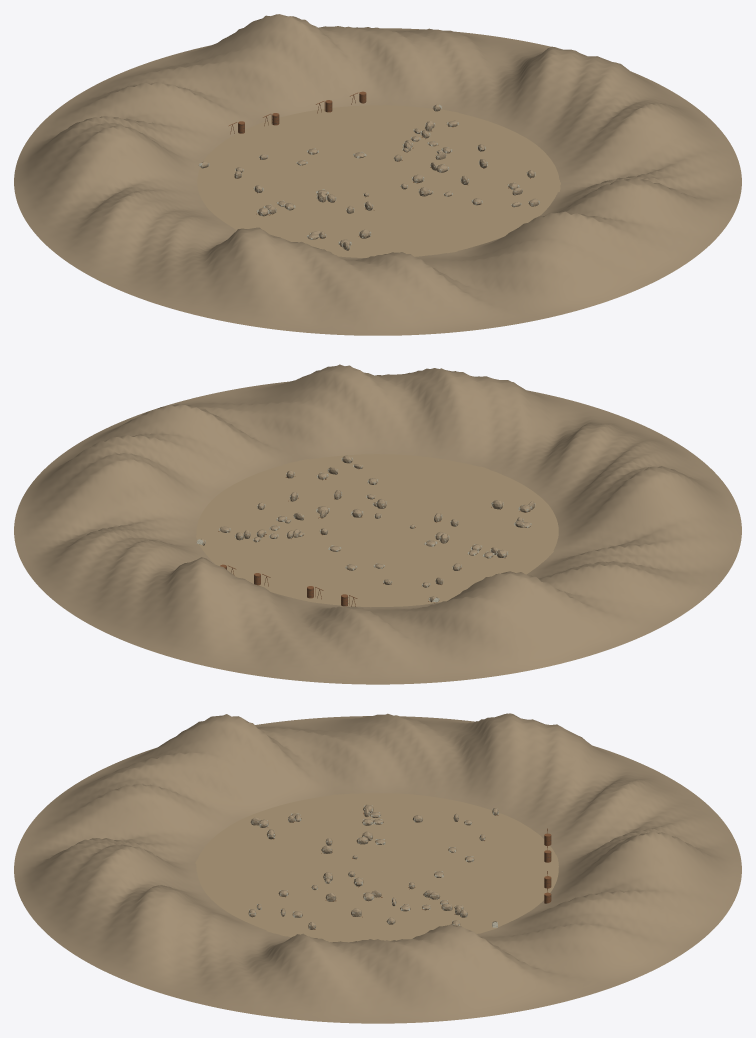
File: desert.glb
3 renders of one model, top to bottom at view 1: azimuth 30°, elevation 25°; view 2: azimuth 150°, elevation 25°; view 3: azimuth 270°, elevation 25°, orthographic.
Visible parts, largest first — view 1: static_environment; view 2: static_environment; view 3: static_environment.
Boxes of the visible parts, <box> form: static_environment: <box>14,14,741,335</box>; static_environment: <box>14,364,741,684</box>; static_environment: <box>14,713,741,1023</box>.
Size of the model in its own units: 832 by 75.53 by 832.
